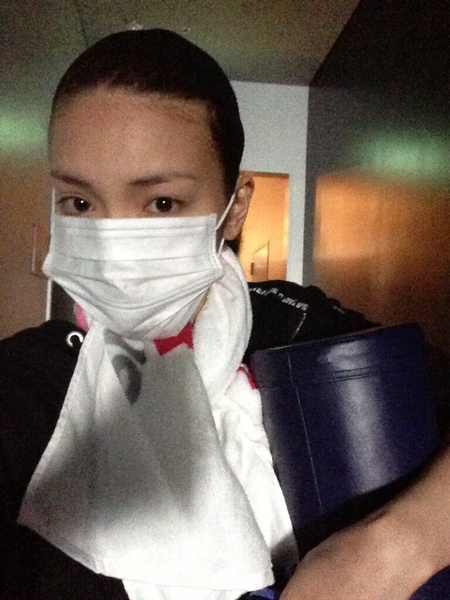face_mask: (49, 84, 214, 338)
